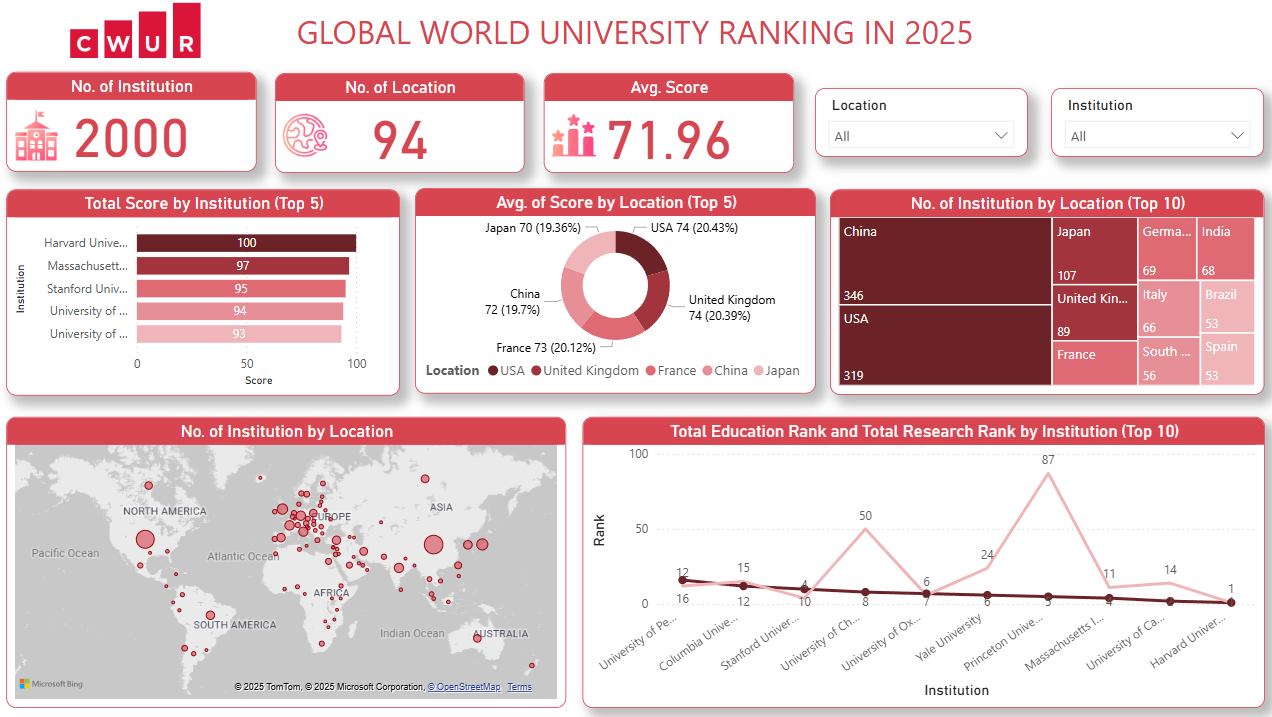

What the dashboard file says about the page in this screenshot:
{"tool":"powerbi","page":{"name":"Page 1","canvas":[1280,720],"ordinal":0},"visuals":[{"type":"card","title":"No. of Institution","fields":{"Values":["Count(Education Ranking.Institution)"]},"box":[11,74.1,250,100.2],"z":0},{"type":"card","title":"No. of Location","fields":{"Values":["Count(Education Ranking.Location)"]},"box":[280,74.6,249.5,100.3],"z":1000},{"type":"card","title":"Avg. Score","fields":{"Values":["Avg(Education Ranking.Score)"]},"box":[549.1,74.6,250,100.3],"z":2000},{"type":"clusteredBarChart","title":"Total Score by Institution (Top 5)","fields":{"Category":["Education Ranking.Institution"],"Y":["Sum(Education Ranking.Score)"]},"box":[11.2,191.2,393.8,206.2],"z":3000},{"type":"shape","box":[0,0,1280.3,64.8],"z":4000},{"type":"treemap","title":"No. of Institution by Location (Top 10)","fields":{"Group":["Education Ranking.Location"],"Values":["CountNonNull(Education Ranking.World Rank)"]},"box":[835.2,190.8,434.1,205.4],"z":5000},{"type":"map","title":"No. of Institution by Location","fields":{"Category":["Education Ranking.Location"],"Size":["CountNonNull(Education Ranking.Institution)"]},"box":[11,418.2,560.1,291],"z":6000},{"type":"lineChart","title":"Total Education Rank and Total Research Rank by Institution (Top 10)","fields":{"Category":["Education Ranking.Institution"],"Y":["Sum(Education Ranking.Education Rank)","Sum(Education Ranking.Research Rank)"]},"box":[587,418.2,682.3,291],"z":7000},{"type":"donutChart","title":"Avg. of Score by Location (Top 5)","fields":{"Category":["Education Ranking.Location"],"Y":["Avg(Education Ranking.Score)"]},"box":[419.4,189.5,401.1,205.4],"z":8000},{"type":"slicer","fields":{"Values":["Education Ranking.Institution"]},"box":[1056.5,90.5,212.8,68.5],"z":9000},{"type":"slicer","fields":{"Values":["Education Ranking.Location"]},"box":[820.5,90.5,212.8,68.5],"z":10000},{"type":"image","box":[0,0,280,64.8],"z":11000},{"type":"image","box":[548.8,102.5,60,70],"z":12000},{"type":"image","box":[280,102.5,60,70],"z":13000},{"type":"image","box":[11.2,102.5,60,70],"z":14000}]}

Visuals, with their boxes in screenshot pixels (x1, y1, x2, y2), scaled from the page's 1280x720 canvas onto the 1272x717 screenshot:
"No. of Institution" card: <box>11,74,259,174</box>
"No. of Location" card: <box>278,74,526,174</box>
"Avg. Score" card: <box>546,74,794,174</box>
"Total Score by Institution (Top 5)" clusteredBarChart: <box>11,190,402,396</box>
shape: <box>0,0,1271,65</box>
"No. of Institution by Location (Top 10)" treemap: <box>830,190,1261,395</box>
"No. of Institution by Location" map: <box>11,416,568,706</box>
"Total Education Rank and Total Research Rank by Institution (Top 10)" lineChart: <box>583,416,1261,706</box>
"Avg. of Score by Location (Top 5)" donutChart: <box>417,189,815,393</box>
slicer - Education Ranking.Institution: <box>1050,90,1261,158</box>
slicer - Education Ranking.Location: <box>815,90,1027,158</box>
image: <box>0,0,278,65</box>
image: <box>545,102,605,172</box>
image: <box>278,102,338,172</box>
image: <box>11,102,71,172</box>
